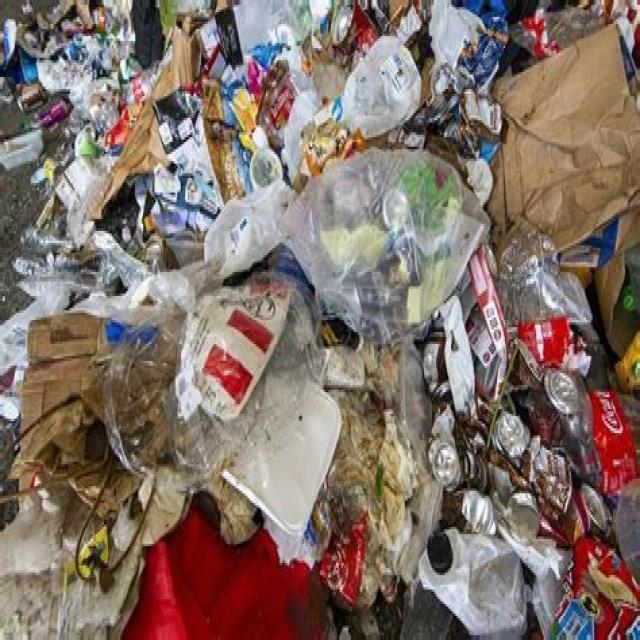cardboard: (513, 41, 635, 245), (39, 310, 128, 479)
metal: (439, 428, 524, 544)
plastic: (546, 364, 629, 618)
trash: (8, 24, 504, 241), (174, 334, 378, 580)
